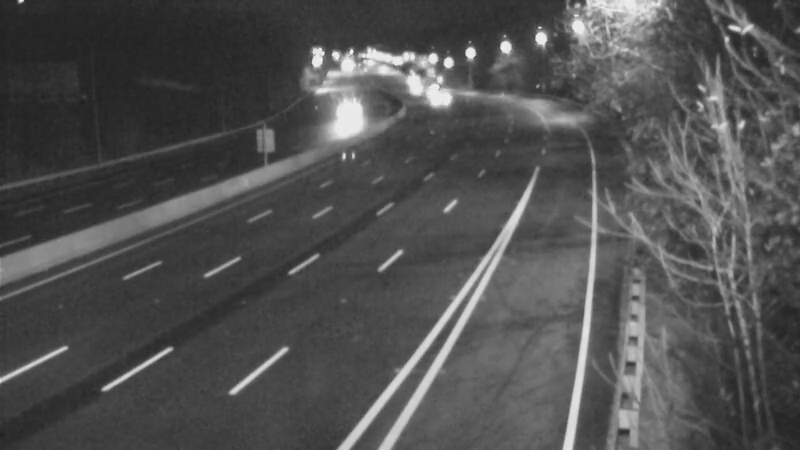vehicle: (389, 65, 439, 115), (406, 63, 456, 113), (414, 74, 464, 124), (320, 93, 370, 143)
